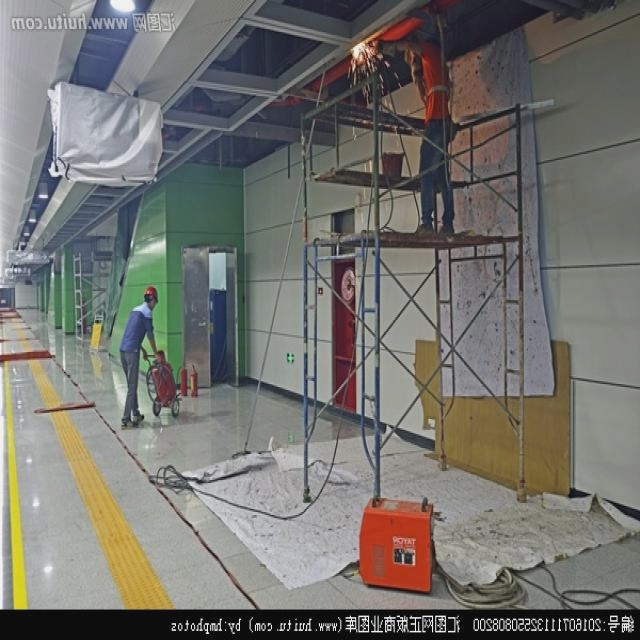Sin_Chaleco: (121, 304, 153, 357)
